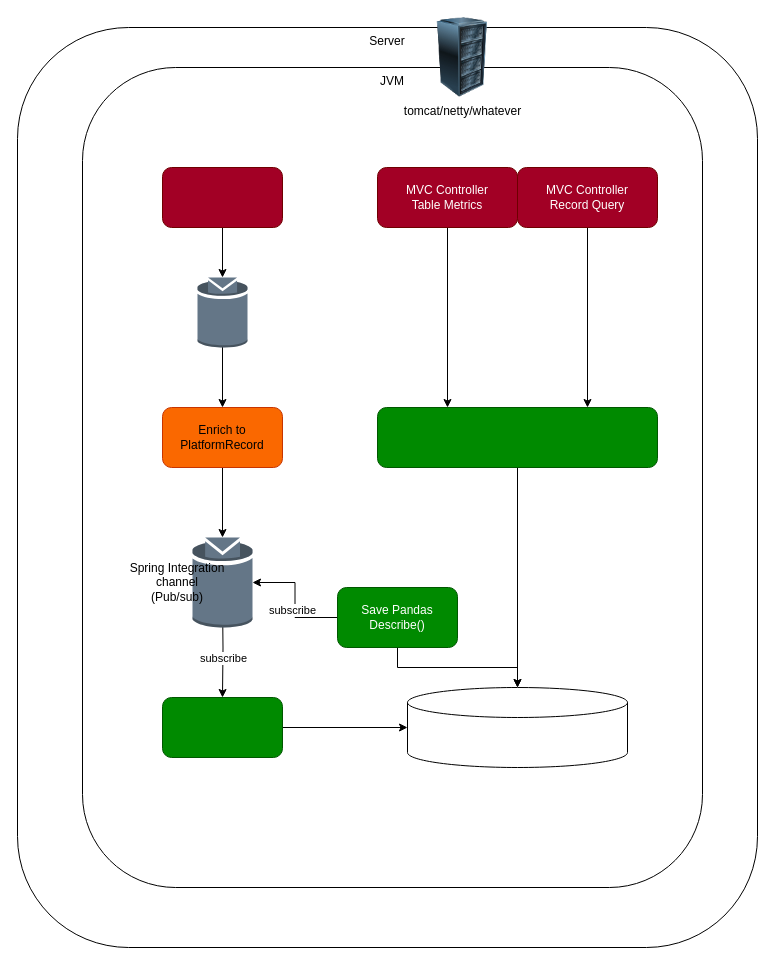
The diagram is 775 pixels wide and 965 high, and some of its shapes have lost their labels. Here are the shapes that lost their labels. From the top down, the centre of each, then its label:
the point at 222,197: MVC Controller
the point at 222,312: Spring Integration channel
the point at 517,437: Read Only Data Service
the point at 222,727: Save the full record
